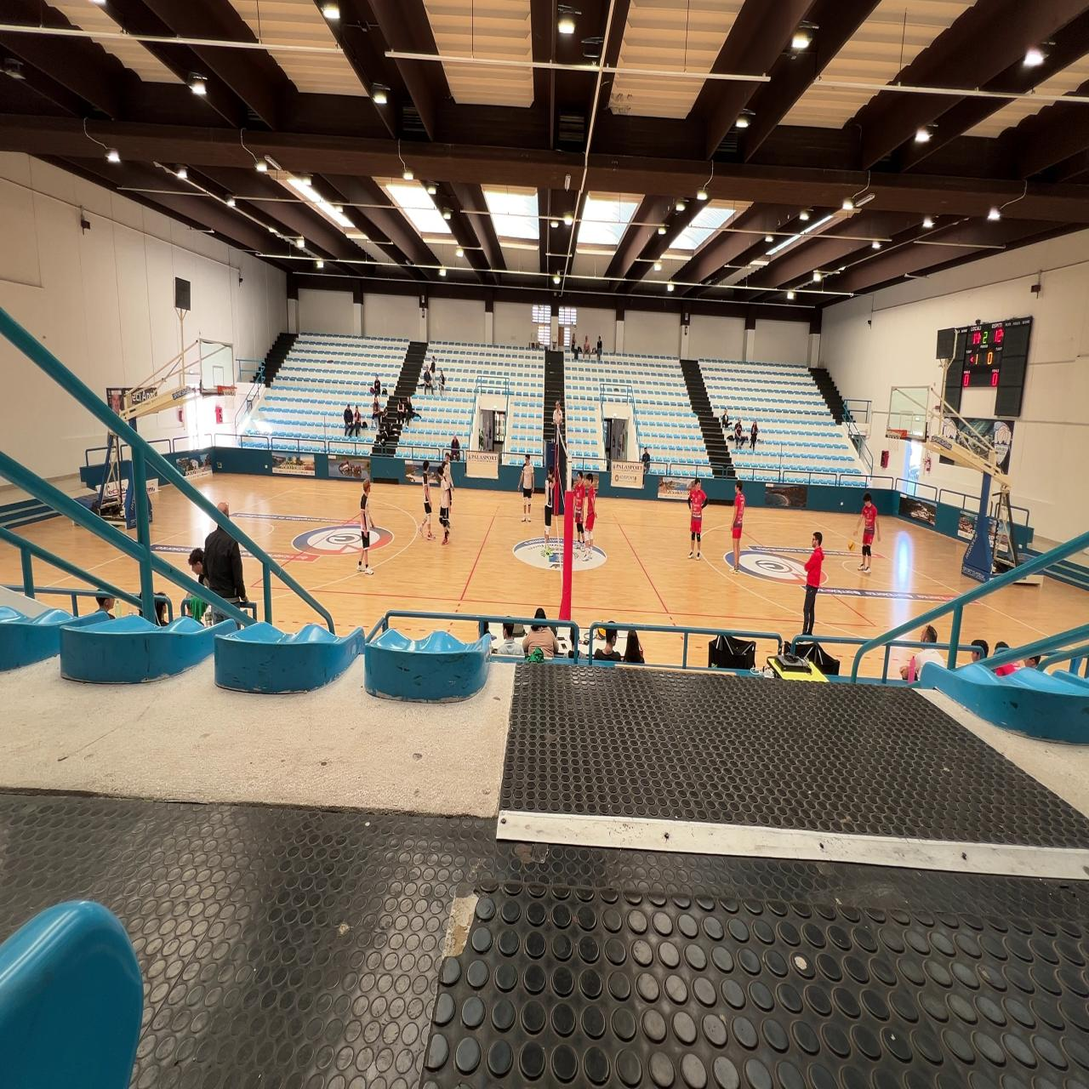ball: (848, 541, 855, 552)
